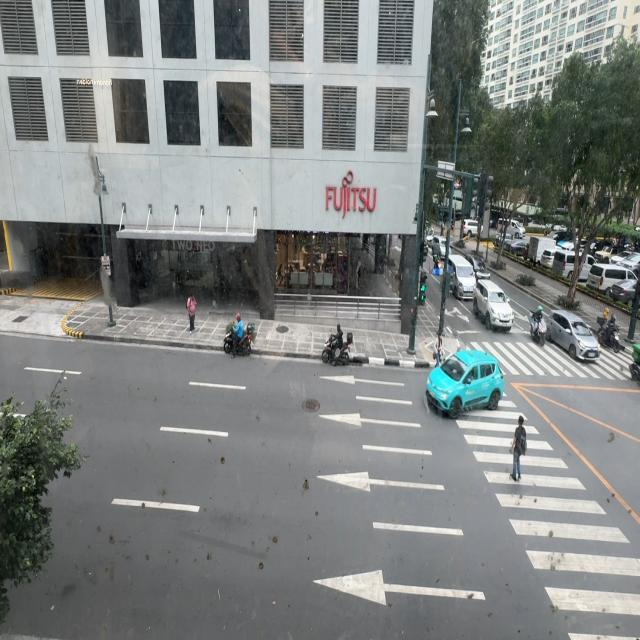crossing: (511, 415, 527, 481)
pedestrain: (187, 293, 197, 334)
waiting: (434, 333, 444, 368)
